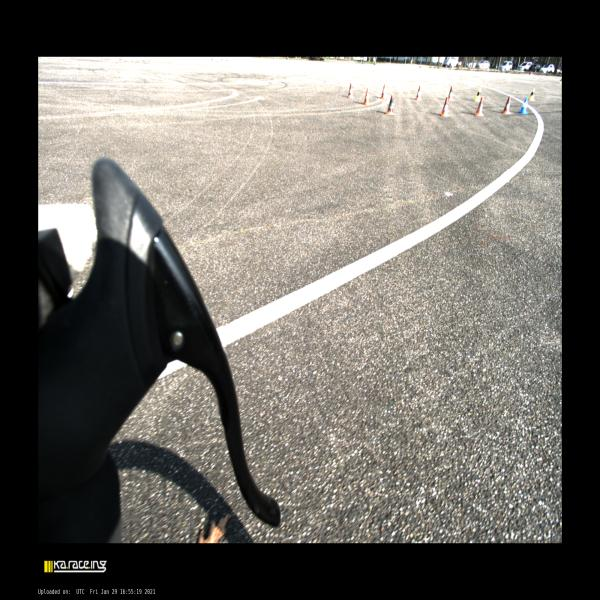blue_cone: (519, 97, 528, 114)
orange_cone: (440, 96, 450, 116), (475, 97, 484, 116), (502, 96, 511, 114), (386, 95, 394, 115), (347, 82, 355, 98), (362, 88, 369, 105), (415, 85, 422, 101), (380, 84, 386, 99), (448, 85, 454, 100)
yellow_cone: (474, 88, 480, 102), (529, 88, 535, 101), (559, 78, 562, 84)
